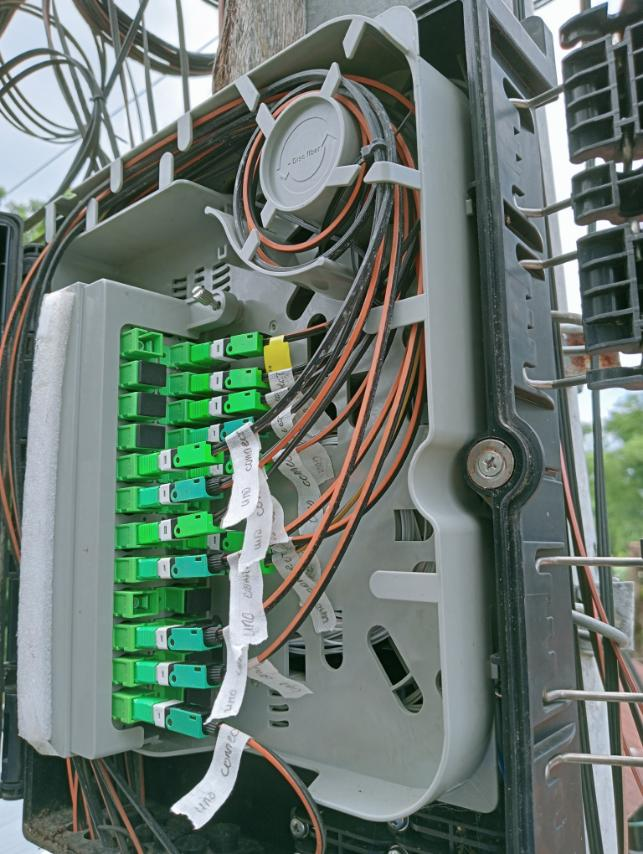no dust cap: (135, 328, 163, 355), (132, 591, 159, 617), (186, 492, 211, 512)
occupied: (132, 700, 236, 746), (137, 435, 233, 474), (135, 508, 227, 546), (134, 662, 246, 693), (190, 326, 283, 362), (188, 412, 277, 448), (135, 551, 241, 581), (136, 474, 230, 507), (184, 547, 283, 578), (189, 385, 276, 420), (189, 449, 291, 478), (135, 627, 239, 652), (190, 366, 282, 393), (183, 529, 269, 550)
vacant: (183, 620, 211, 651), (139, 359, 167, 388), (186, 650, 212, 680), (184, 686, 211, 714), (137, 424, 166, 449), (138, 393, 167, 418), (184, 587, 211, 613)
